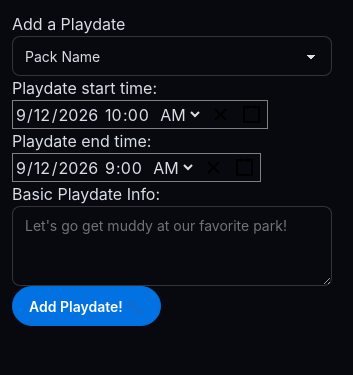
refuses an end time before the start time
Select "Chelsea Morning Crew" in the dropdown named "pack" at (172, 56), box [12,36,332,76]
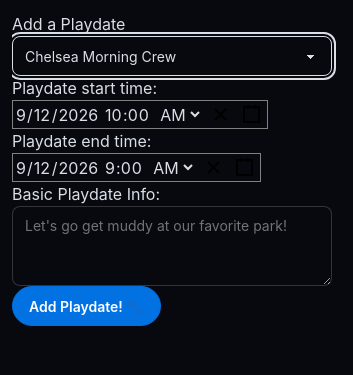
Click the button "Add Playdate! 🐾" at (86, 306), box [12,286,161,326]
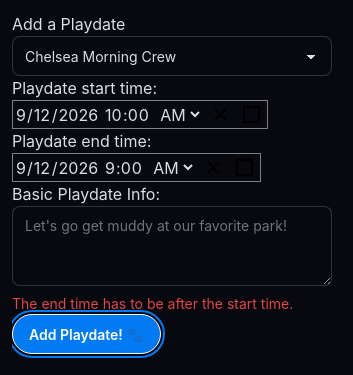
expect the text "The end time has to be after the start time." is shown: met, box [12,295,293,312]
